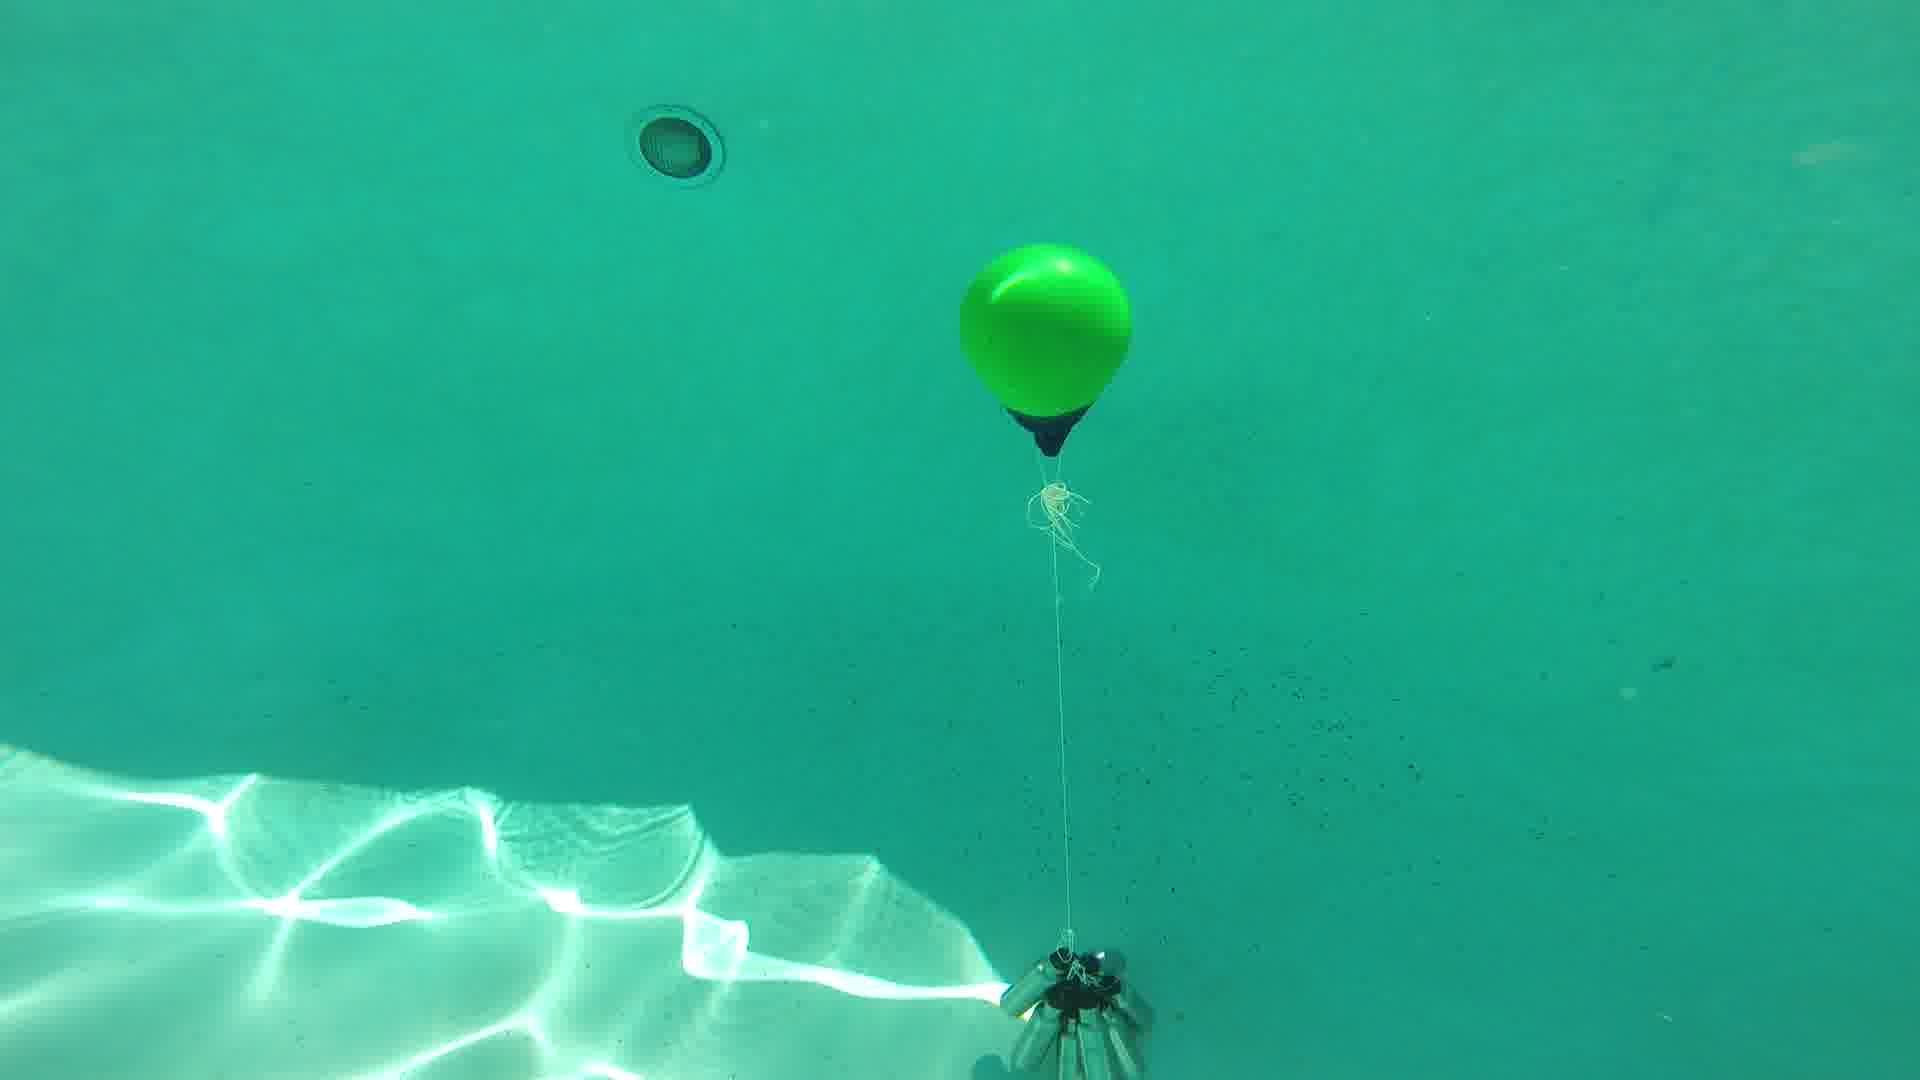yellow_buoy: (957, 244, 1133, 462)
